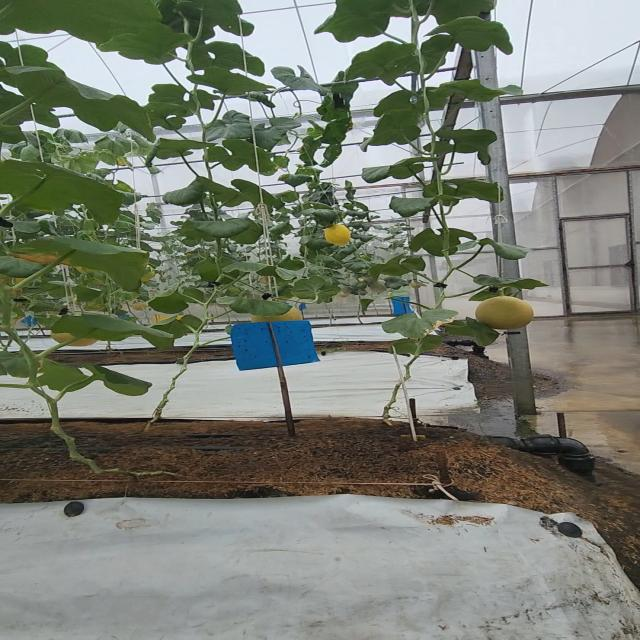Rear-melon: (475, 297, 537, 330), (324, 225, 356, 246)
